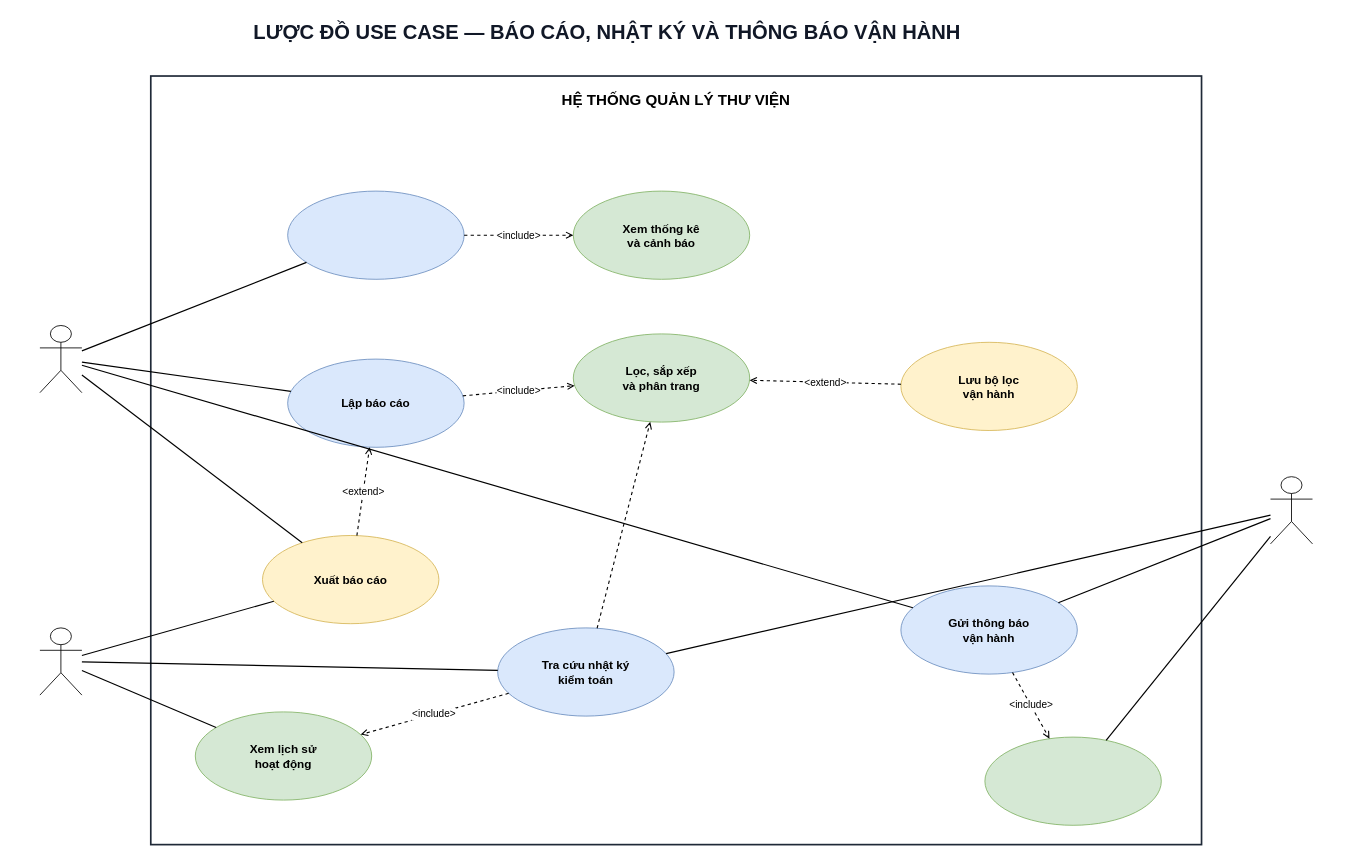
Image size: 1355x859. Some labels were removed from this diagram. The shapes that lost their labels are listed below. From the top down, each one's centre as x and y in pixels, then its label:
At (x=375, y=234): "Xem bảng điều khiển".
At (x=60, y=359): "Quản lý thư viện".
At (x=1291, y=510): "Quản trị hệ thống".
At (x=60, y=661): "Kiểm toán viên".
At (x=1072, y=780): "Quản lý mẫu thông báo".
